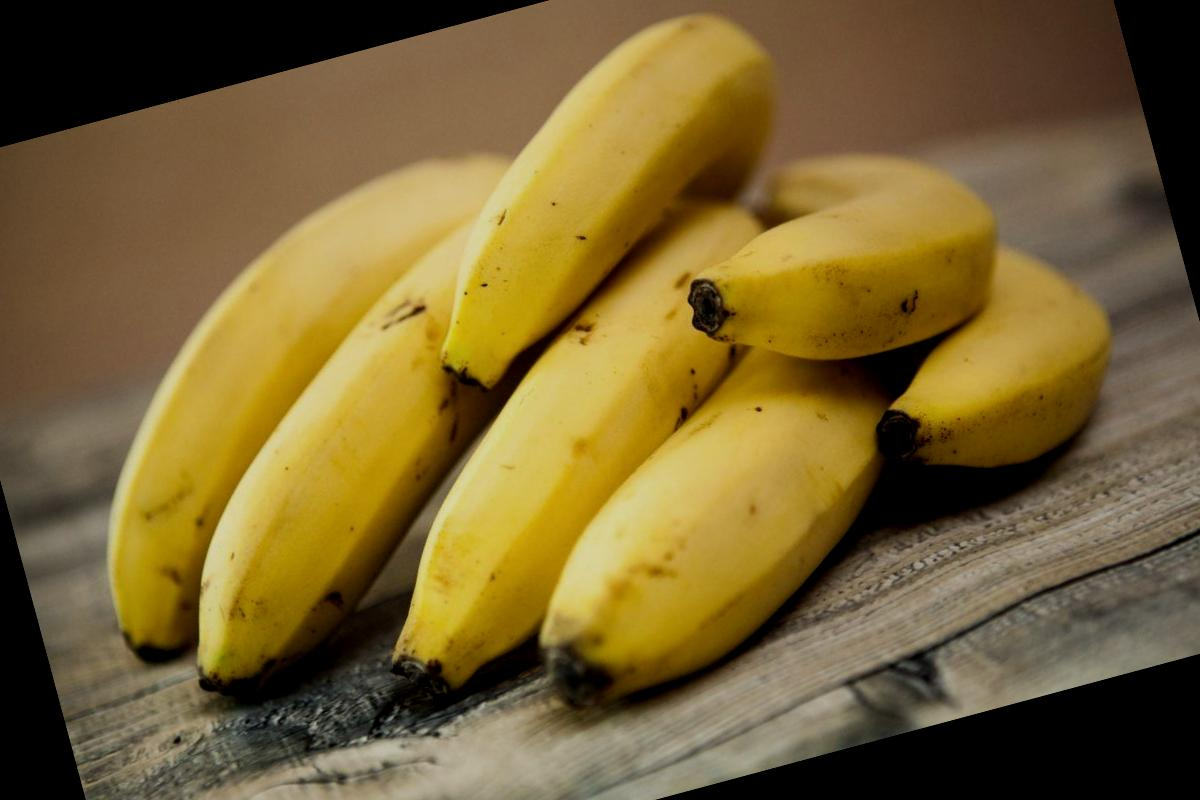Banana Ripe: (0, 0, 1163, 800), (0, 116, 644, 691), (320, 232, 946, 764), (624, 50, 1170, 578), (366, 0, 871, 363)
